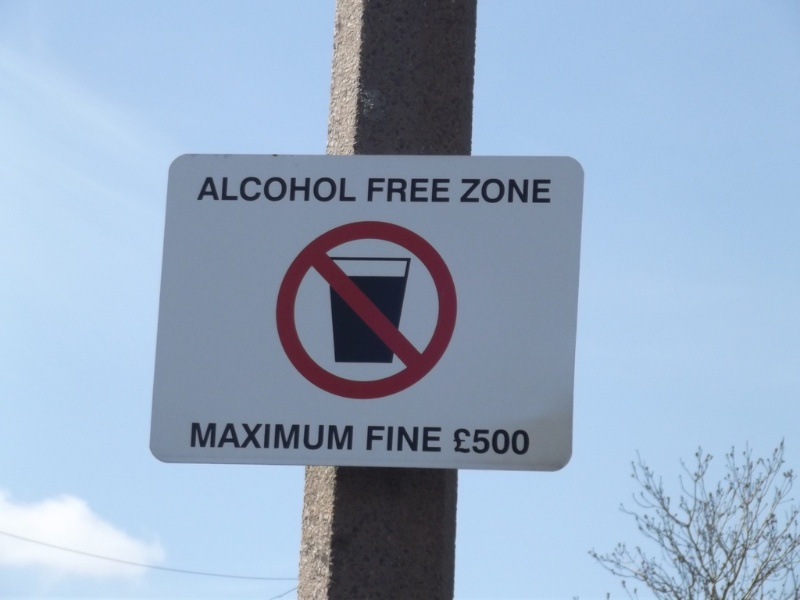alcohol_free_zone: (169, 155, 577, 481)
